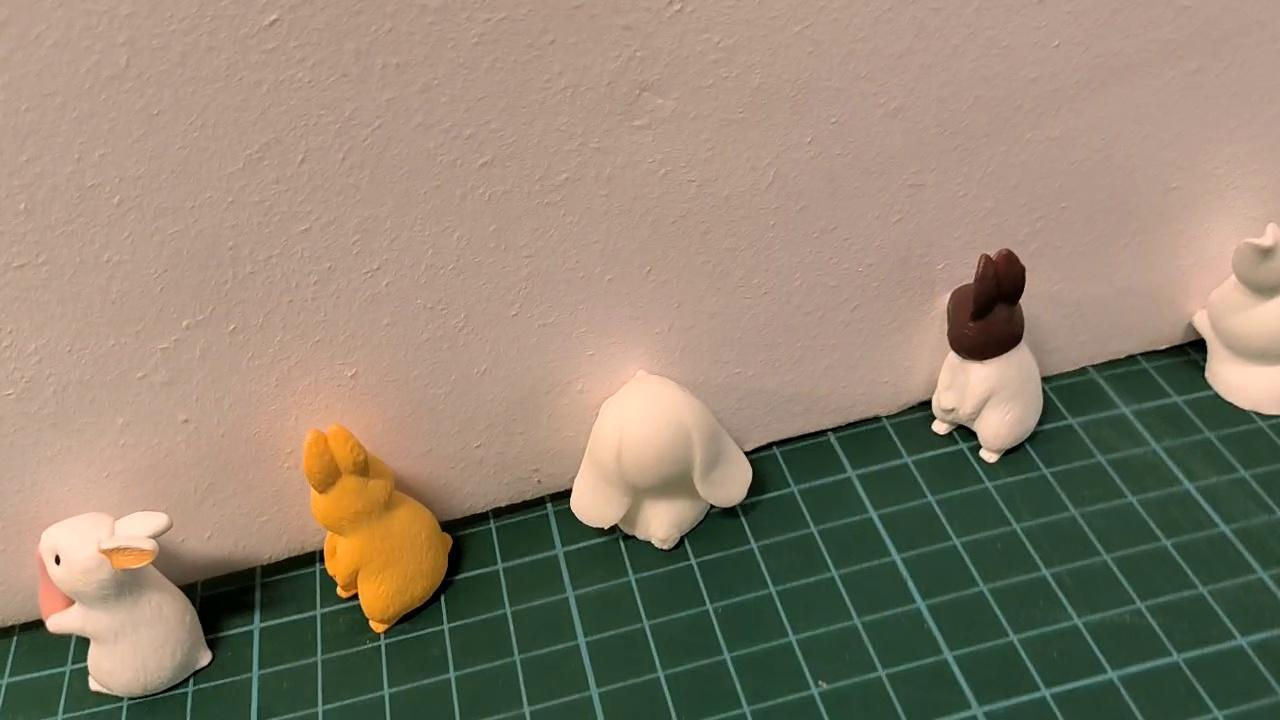pet: (36, 509, 215, 701), (569, 368, 752, 550), (303, 425, 452, 632), (929, 247, 1045, 465), (1193, 217, 1280, 419)
